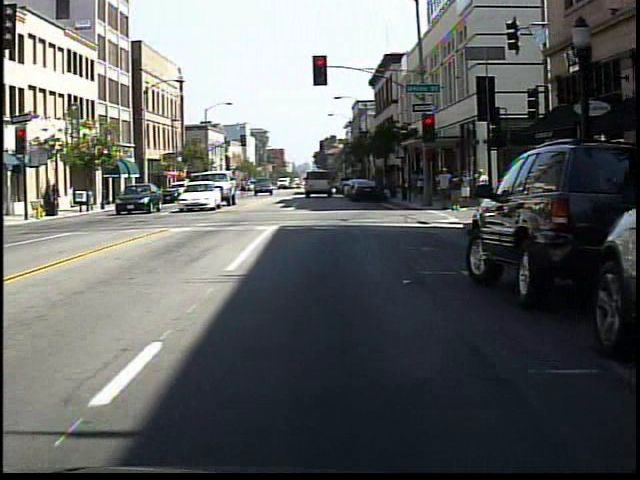person: (435, 165, 454, 211), (472, 166, 491, 210), (411, 166, 428, 204), (449, 168, 463, 214), (459, 168, 473, 209), (234, 173, 252, 202)
